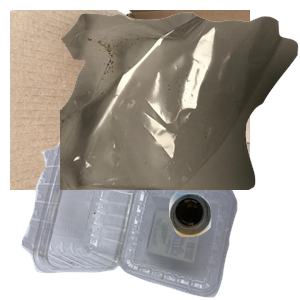cardboard: (10, 10, 250, 190)
glass: (166, 190, 300, 300)
plastic: (19, 139, 249, 300)
trash: (60, 10, 300, 190)
